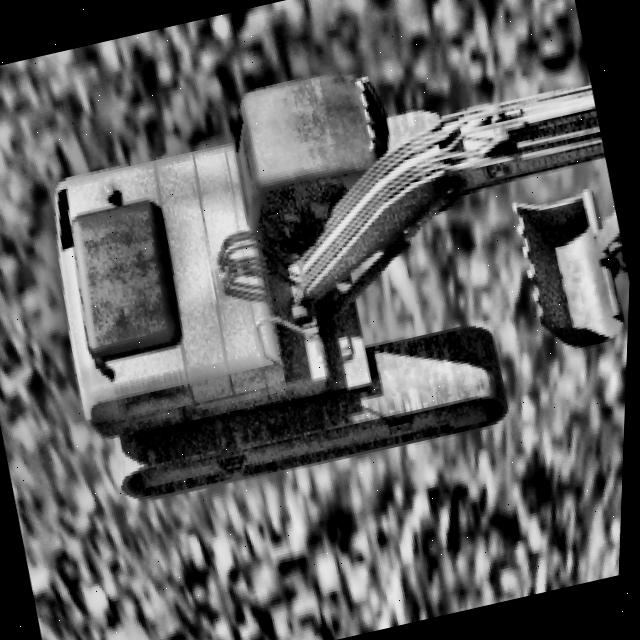excavator: (18, 11, 640, 511)
